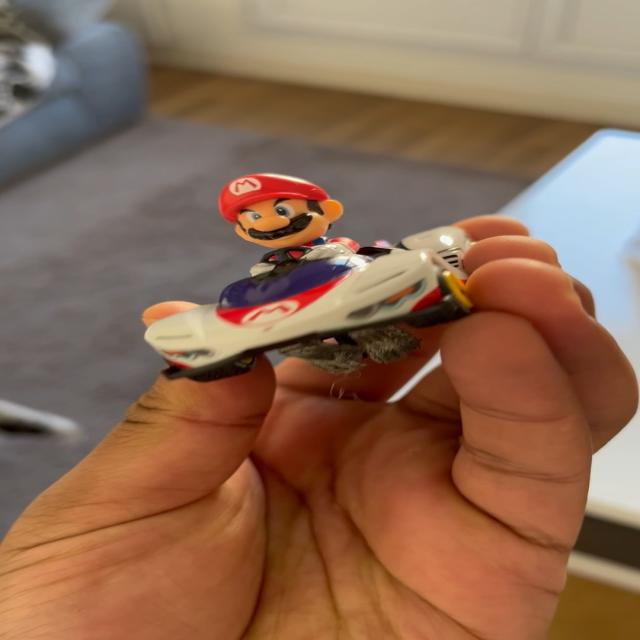mario: (108, 164, 528, 408)
